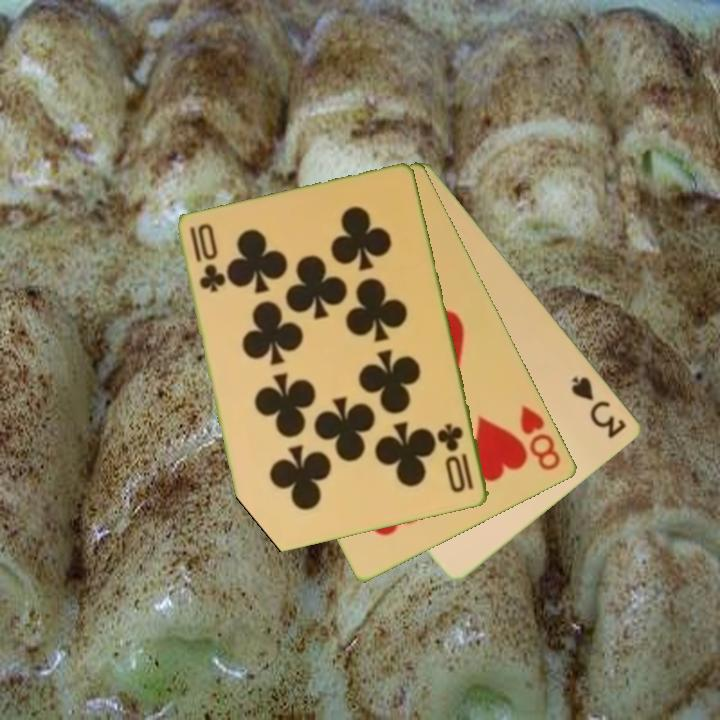10c: (435, 420, 477, 496), (187, 220, 226, 296)
3s: (568, 373, 630, 442)
8h: (517, 401, 564, 474)
